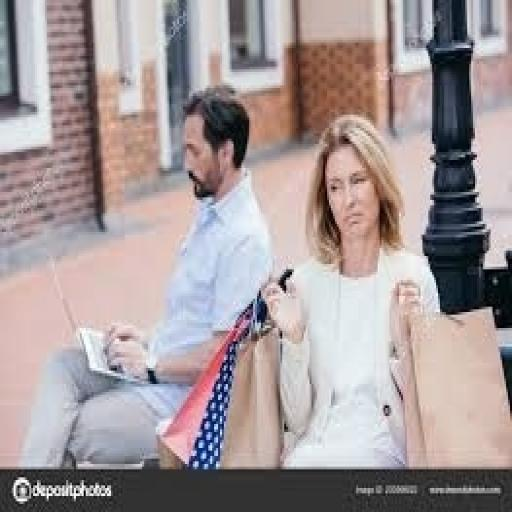using_laptop: (43, 251, 152, 384)
